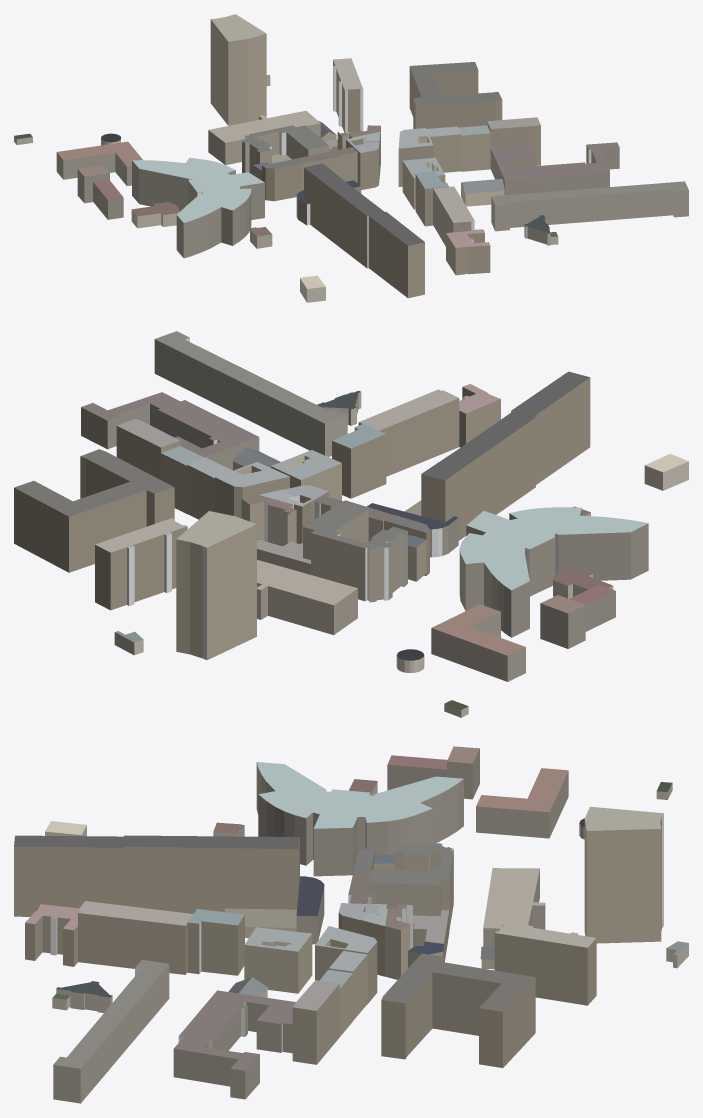
3 renders of one model, top to bottom at view 1: azimuth 30°, elevation 25°; view 2: azimuth 150°, elevation 25°; view 3: azimuth 270°, elevation 25°, orthographic. The views are drawn at different scales.
Parts seen in each view (by area): view 1: tuile; view 2: tuile; view 3: tuile.
Part boxes in pixels (x1,y1,x2,y2): tuile: [14, 14, 688, 302]; tuile: [14, 331, 688, 717]; tuile: [14, 746, 688, 1103].
Size of the model in its own units: 282 by 54.82 by 267.
